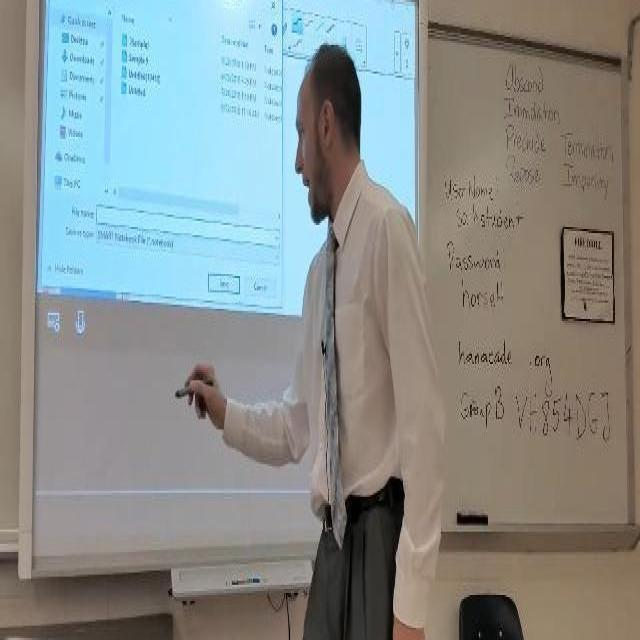Instructor: (283, 40, 432, 558)
Slide: (33, 0, 417, 323)
White-board: (421, 23, 630, 529)
